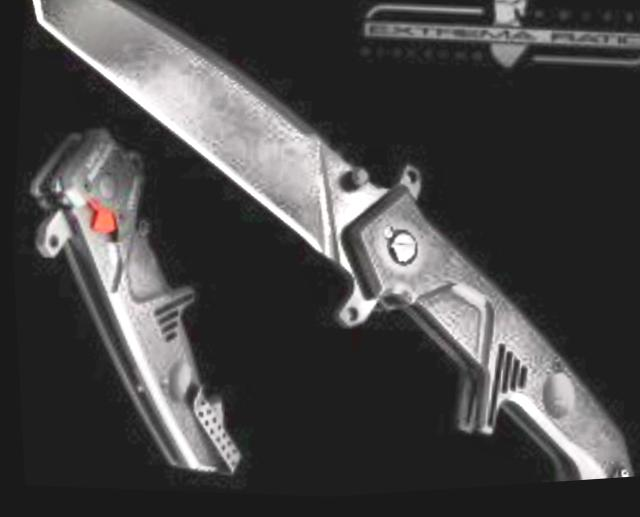knife: (4, 0, 351, 239)
